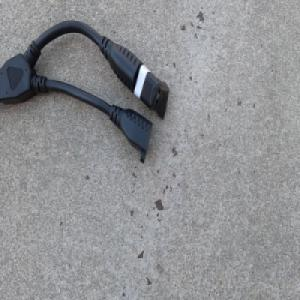Wire: (0, 19, 170, 164)
